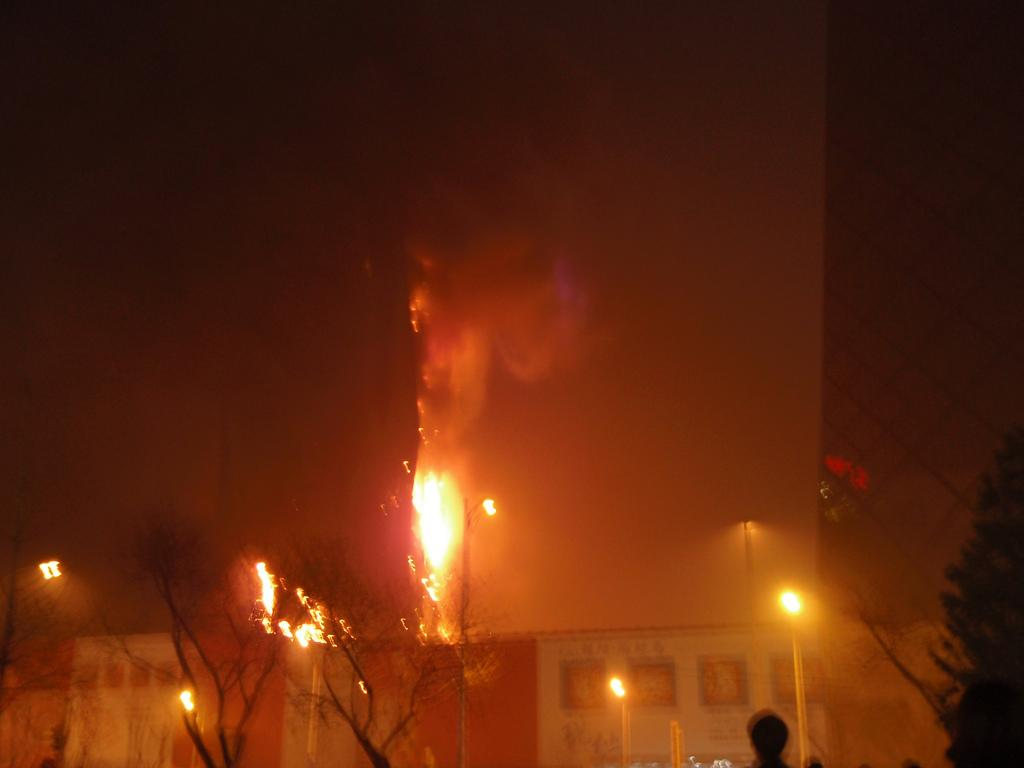fire: (412, 466, 470, 578)
smoke: (402, 244, 500, 392)
